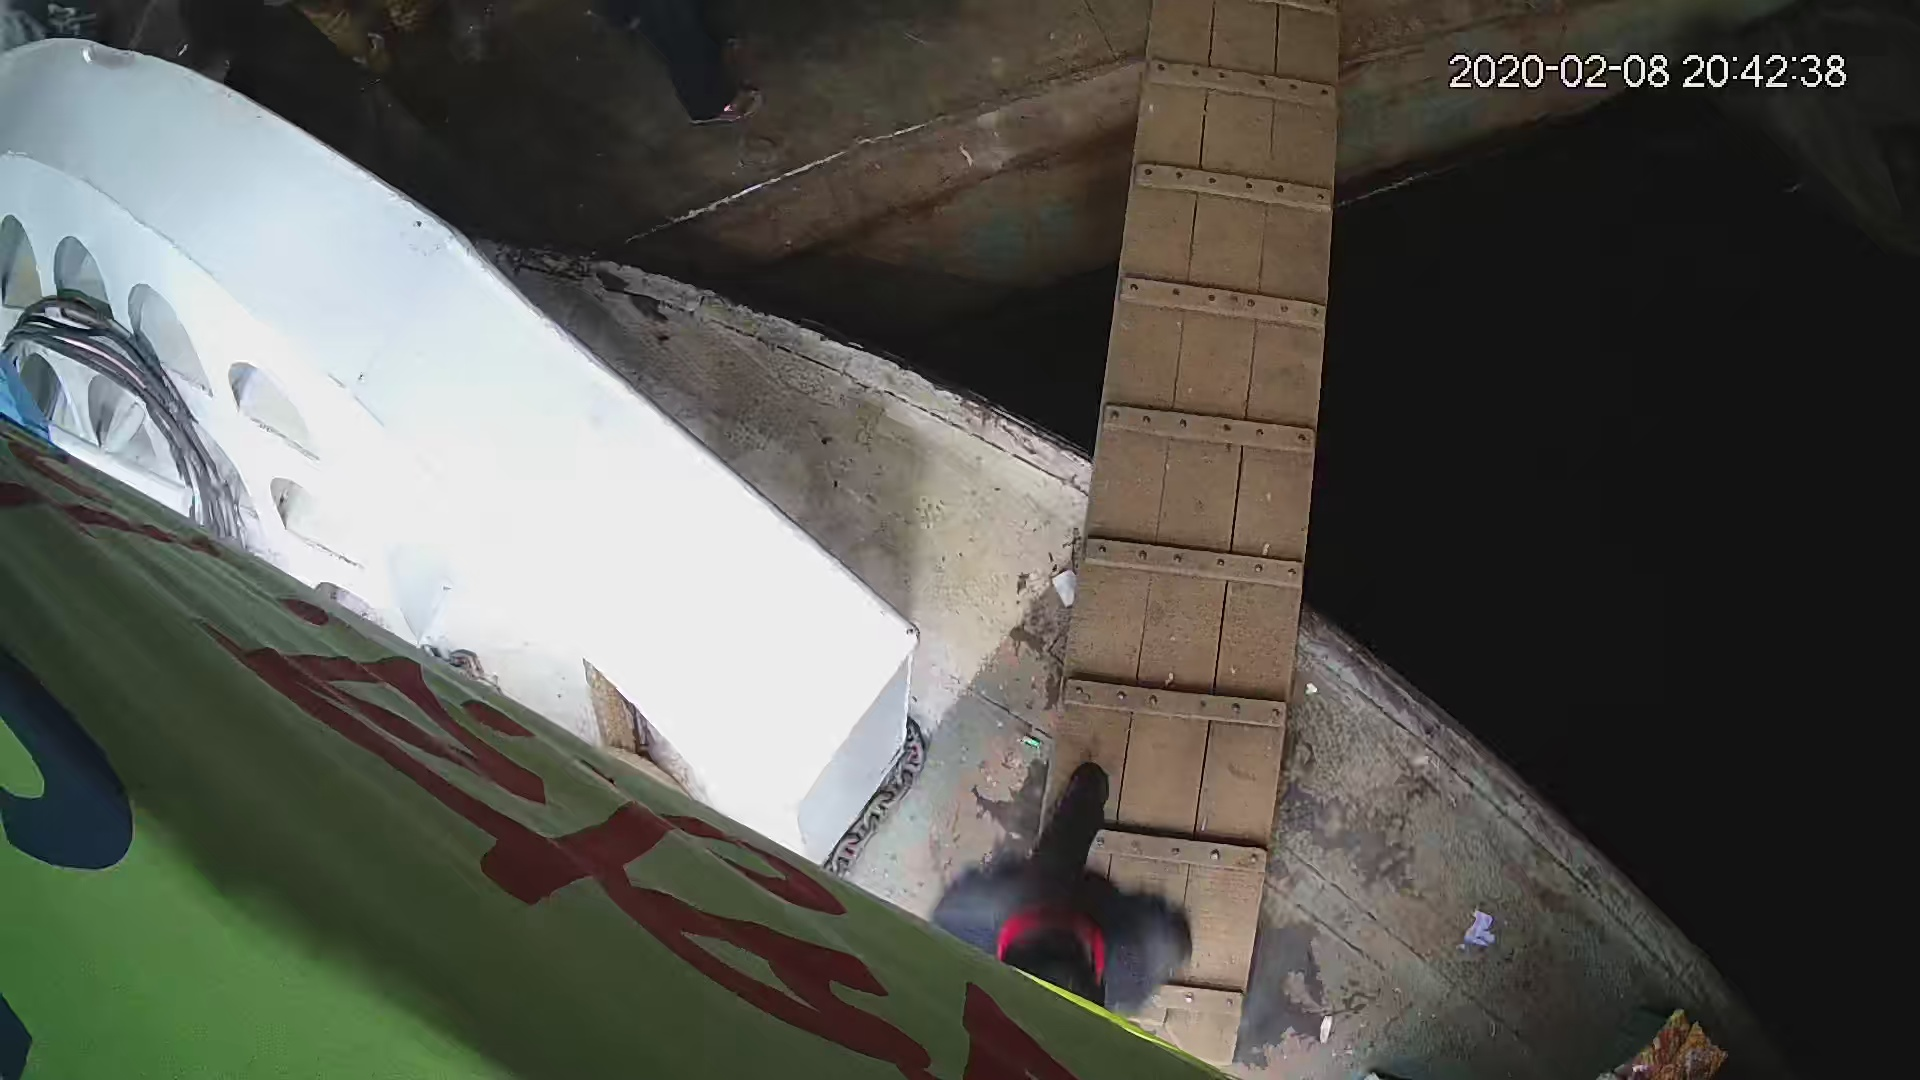person: (919, 751, 1204, 1026)
